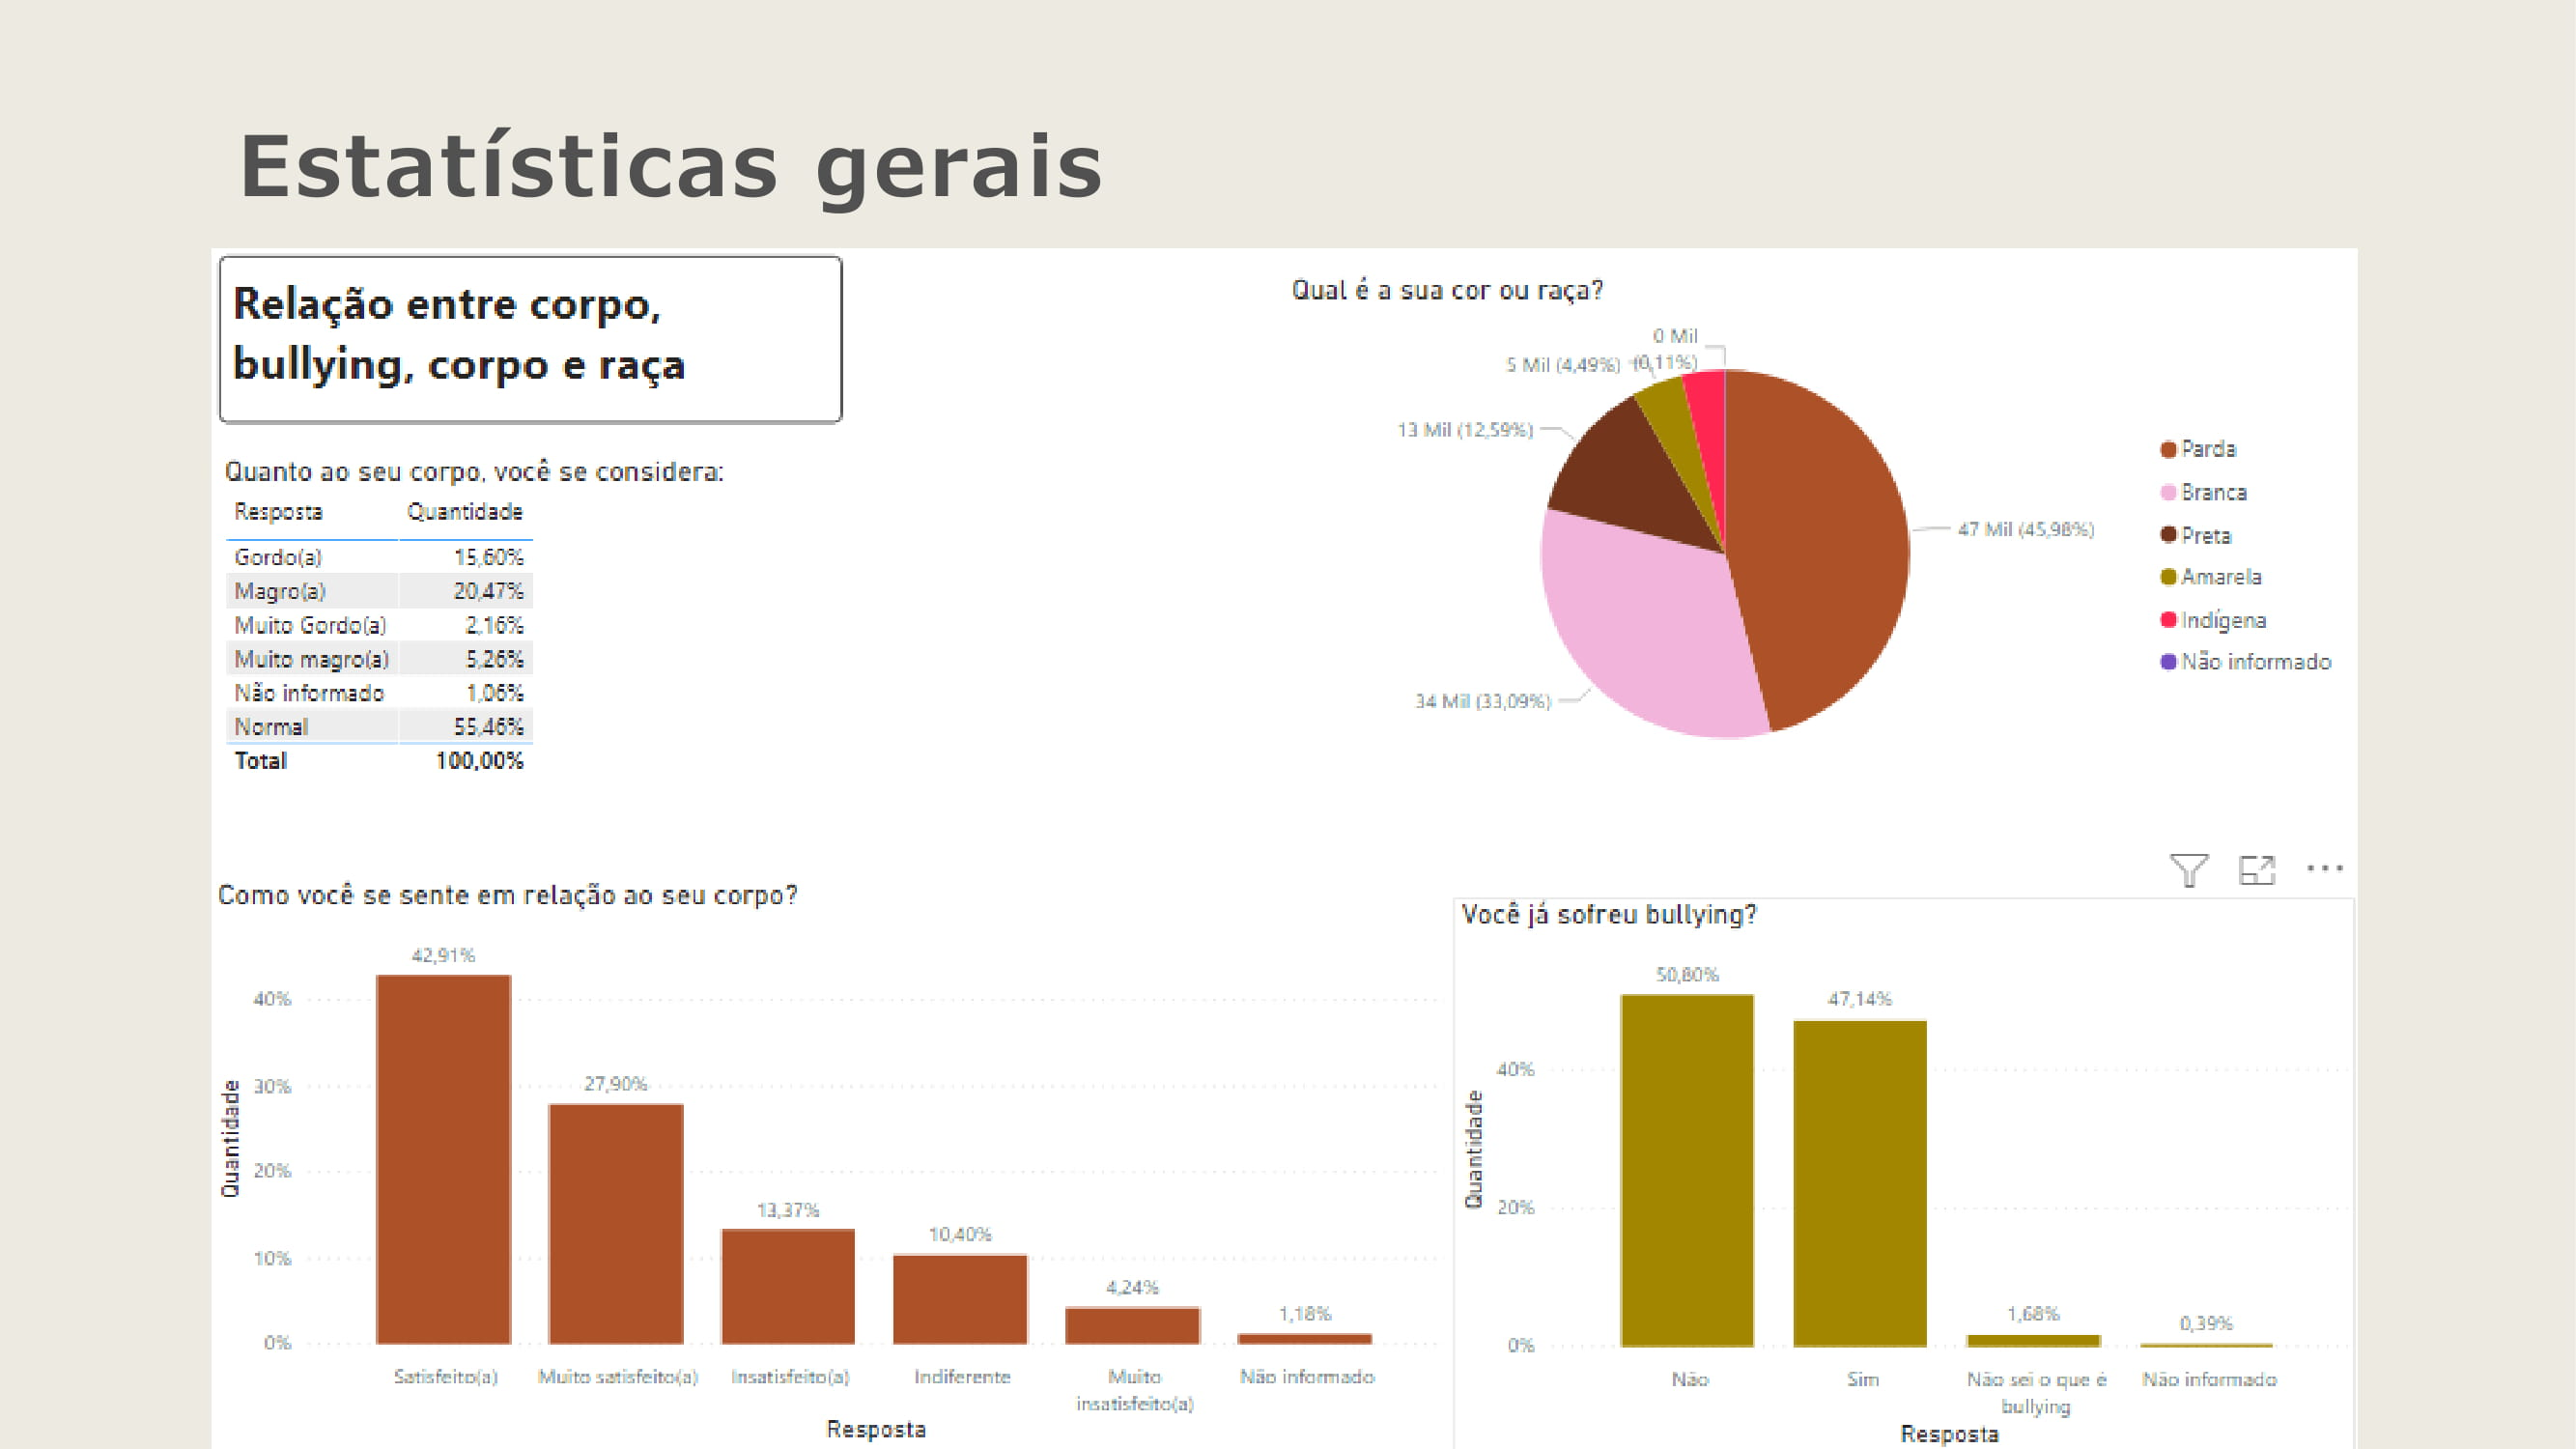

Layout of this report page (visuals, bound fields, positions):
{"tool":"powerbi","page":{"name":"Corpo e bullying","canvas":[1280,720],"ordinal":2},"visuals":[{"type":"clusteredColumnChart","title":"Você já sofreu bullying?","fields":{"Category":["P_Você já sofreu bullying?.Resposta"],"Y":["Sum(Respotas_Questionario.cont)"]},"box":[741.1,387.9,538.9,332.1],"z":0},{"type":"clusteredColumnChart","title":"Como você se sente em relação ao seu corpo?","fields":{"Category":["P_Como se sente em relação ao seu corpo?.Resposta"],"Y":["Sum(Respotas_Questionario.cont)"]},"box":[0,377.3,742.3,342.1],"z":1000},{"type":"tableEx","title":"Quanto ao seu corpo, você se considera:","fields":{"Values":["P_Quanto ao seu corpo, você se considera:.Resposta","Sum(Respotas_Questionario.cont)"]},"box":[4.6,123.7,319.2,209.3],"z":2000},{"type":"textbox","box":[5.8,5.8,372.3,99.6],"z":3000},{"type":"pieChart","title":"Qual é a sua cor ou raça?","fields":{"Y":["Sum(Respotas_Questionario.cont)"],"Category":["P_Qual é a sua cor ou raça?.Resposta"]},"box":[640.6,15.9,639.2,317.4],"z":4000}]}

Visuals, with their boxes in screenshot pixels (x1, y1, x2, y2), scaled from the page's 1280x720 canvas onto the 2576x1449 screenshot:
"Você já sofreu bullying?" clusteredColumnChart: region(1491, 781, 2575, 1448)
"Como você se sente em relação ao seu corpo?" clusteredColumnChart: region(0, 759, 1494, 1448)
"Quanto ao seu corpo, você se considera:" tableEx: region(10, 249, 652, 670)
textbox: region(12, 12, 761, 213)
"Qual é a sua cor ou raça?" pieChart: region(1289, 32, 2575, 670)
